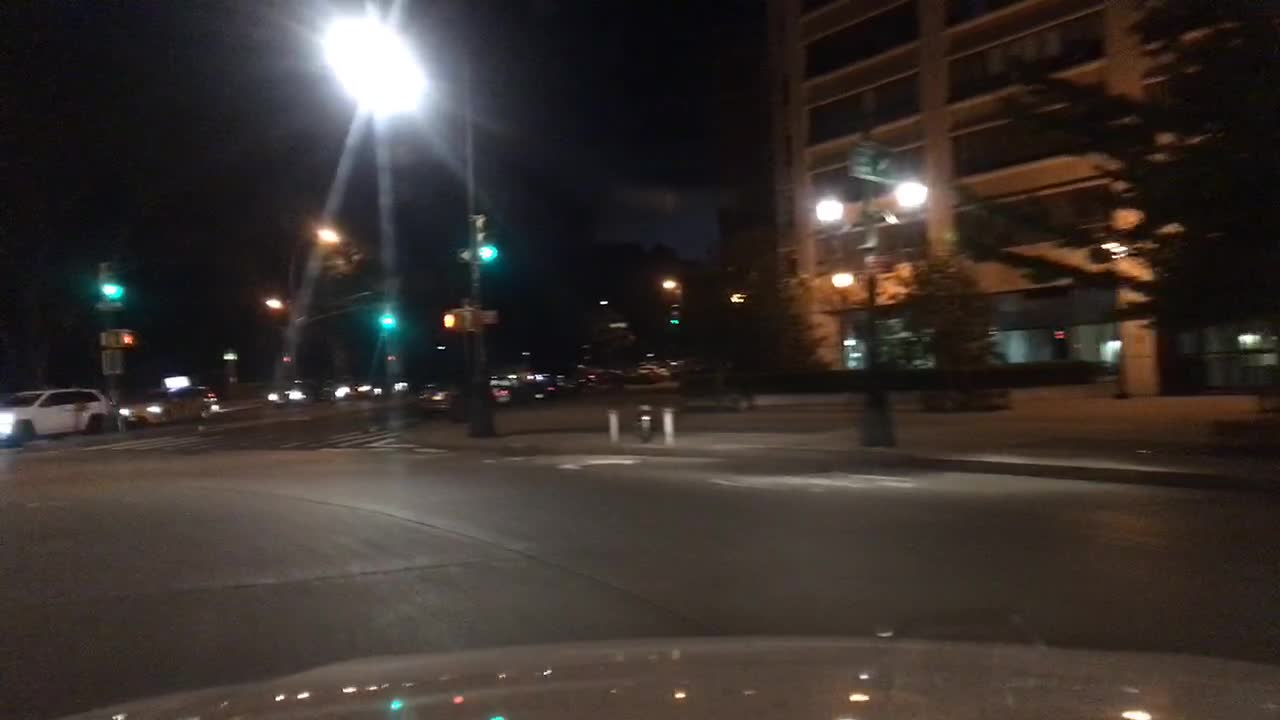car: (0, 384, 115, 446), (116, 382, 221, 429), (417, 378, 469, 417), (263, 379, 314, 410), (487, 374, 532, 404), (582, 365, 628, 389), (532, 370, 562, 398), (315, 376, 350, 399), (642, 358, 678, 379), (351, 378, 388, 398), (556, 366, 581, 393), (630, 365, 662, 384), (386, 379, 410, 394)
traffic light: (442, 311, 467, 331), (113, 330, 138, 345), (99, 283, 124, 297), (98, 331, 118, 346), (479, 244, 496, 258), (378, 313, 394, 326)
traffic sign: (460, 310, 497, 325), (101, 349, 124, 372), (456, 247, 475, 261), (607, 320, 628, 327)
